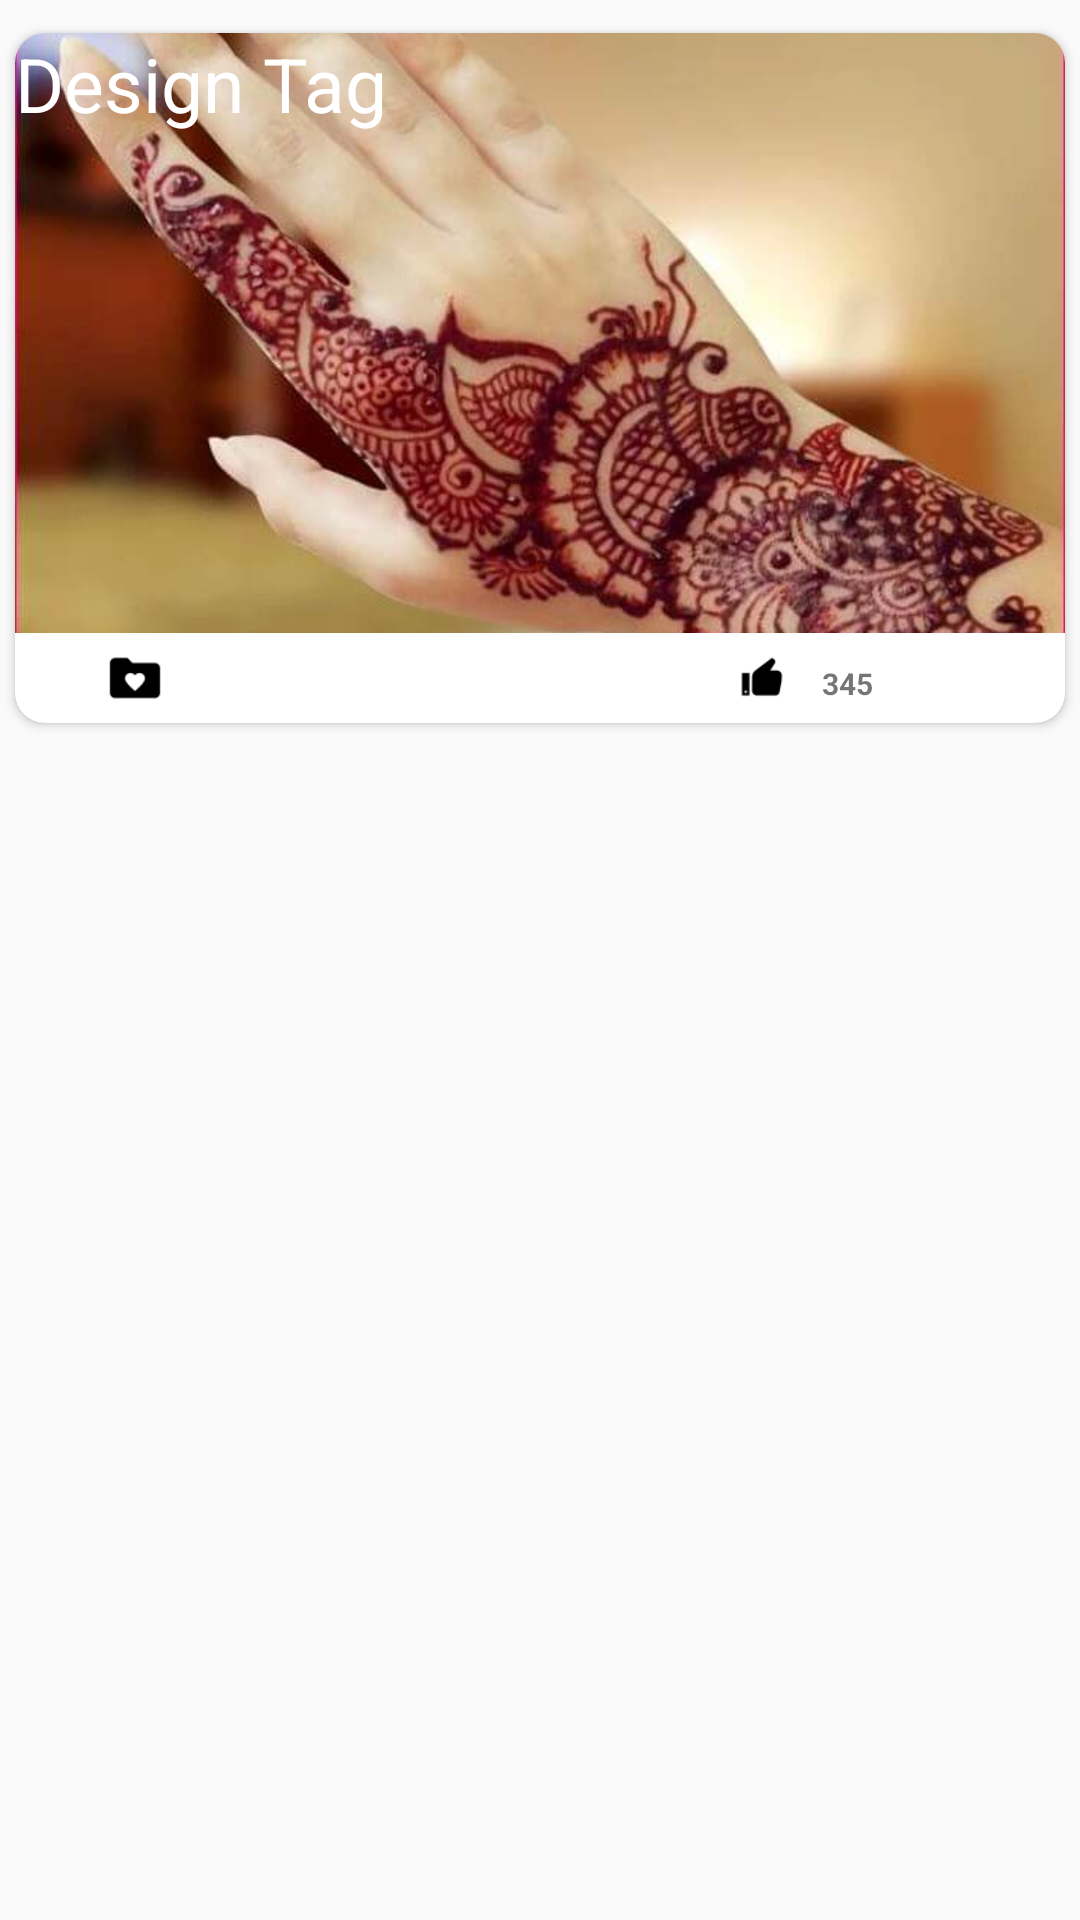

Named icons in this screenshot (1080x1920) and their bounding boxes, (x1, y1, x2, y2):
favorite: (109, 657, 161, 699)
like: (741, 657, 783, 696)
